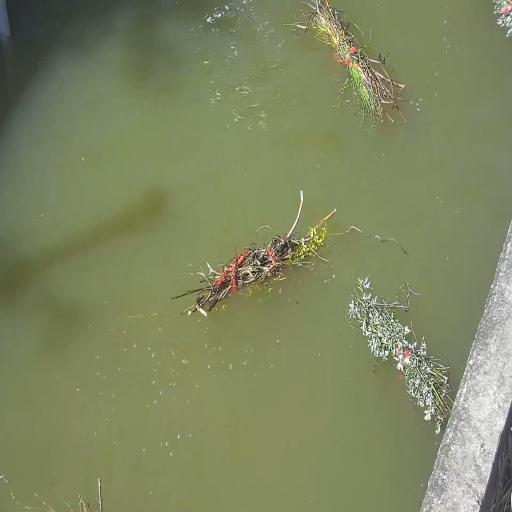twig: (349, 277, 450, 434), (187, 210, 335, 315), (294, 0, 406, 124), (491, 0, 512, 37)
